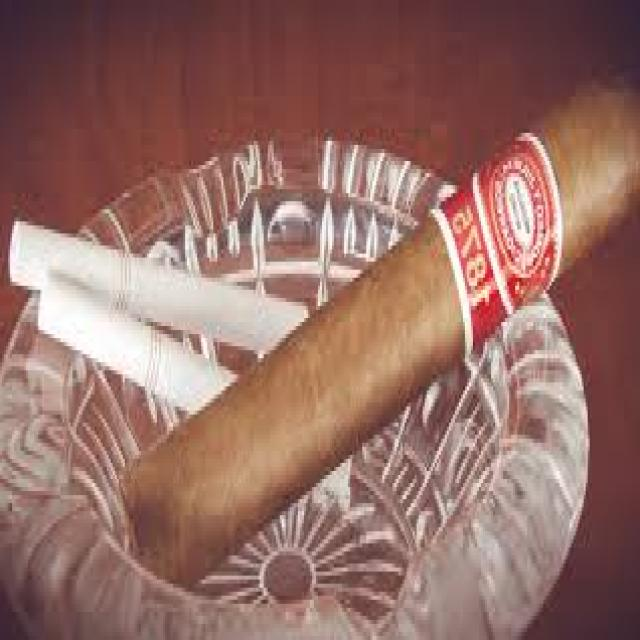Cigarette: (120, 65, 640, 615), (9, 221, 305, 354), (38, 276, 235, 413)
